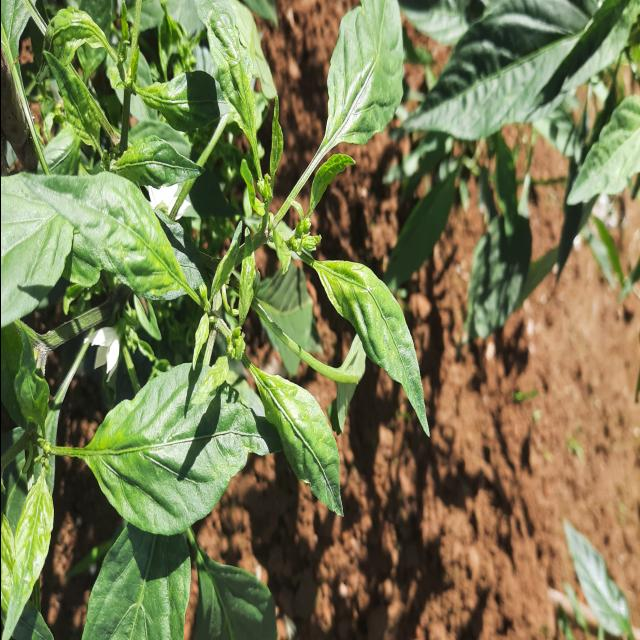thrips: (307, 225, 427, 415), (253, 358, 357, 534)
